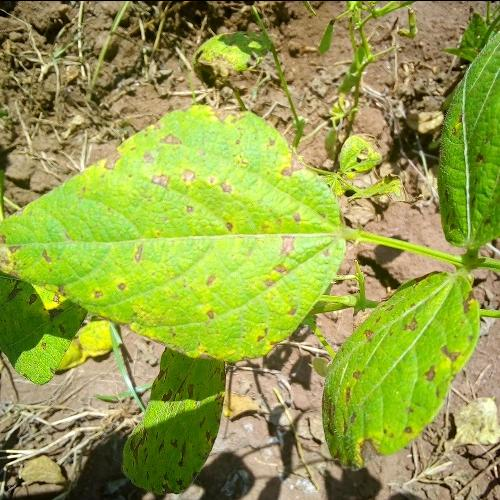hawar: (100, 129, 200, 203), (254, 207, 318, 296), (420, 331, 468, 390), (212, 170, 242, 248), (190, 266, 222, 335), (339, 367, 368, 431), (387, 403, 428, 440), (344, 440, 384, 475), (126, 230, 149, 284), (275, 141, 300, 185), (390, 302, 419, 334), (452, 288, 474, 318), (364, 320, 378, 344)
mozaik: (0, 127, 250, 335)
